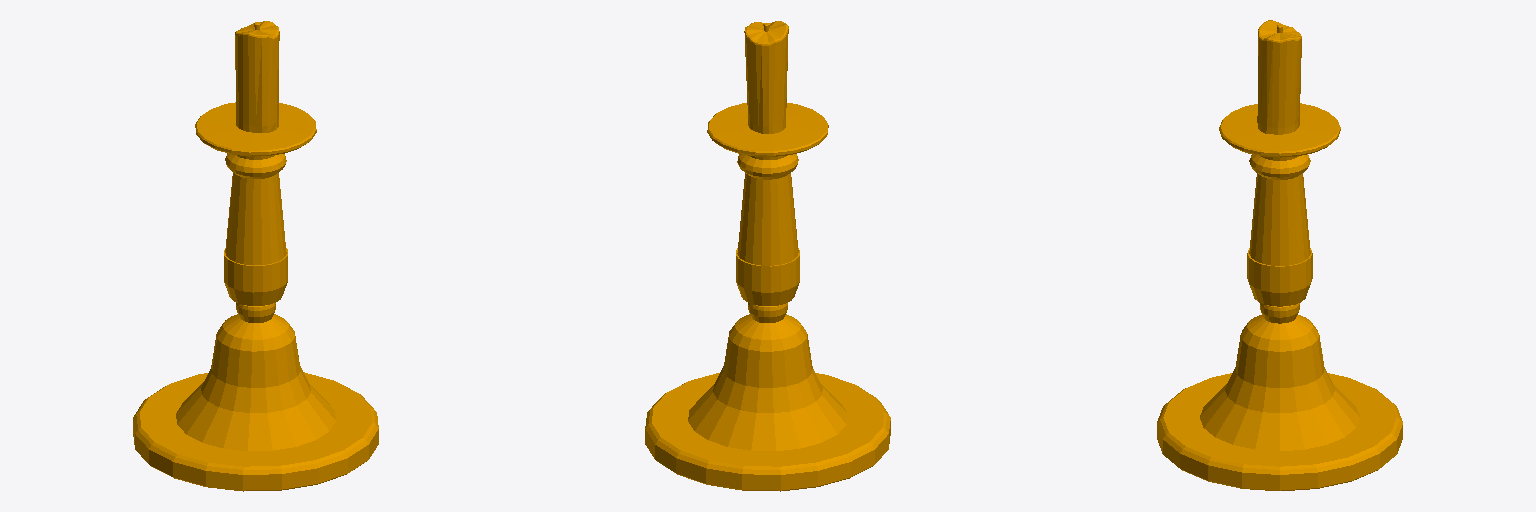
URDF robot description (mesh_object):
<?xml version="1.0" ?>
<robot name="mesh_object">
  <link name="base">
    <visual>
      <geometry>
        <mesh filename="candle_3.obj" scale="1 1 1"/>
      </geometry>
    </visual>
    <collision>
      <geometry>
        <mesh filename="candle_3.obj" scale="1 1 1"/>
      </geometry>
    </collision>
    <inertial>
      <origin xyz="0.000510 0.000013 0.099766" rpy="0 0 0"/>
      <mass value="0.5"/>
      <inertia ixx="0.01" iyy="0.01" izz="0.01" ixy="0" ixz="0" iyz="0"/>
    </inertial>
  </link>
</robot>

--- Render facts (derived) ---
Views: 3 orthographic renders of the robot side by side, from view 1: azimuth 30°, elevation 25°; view 2: azimuth 150°, elevation 25°; view 3: azimuth 270°, elevation 25°.
Robot: mesh_object — 1 links, 0 joints (none); root link base; default pose: all joints at 0.
Links seen in each view (by area): view 1: base; view 2: base; view 3: base.
Link boxes in pixels (<box>): base: <box>133,21,378,491</box>; base: <box>645,21,890,491</box>; base: <box>1157,20,1402,490</box>.
Bounding box of the posed robot: 0.1073 × 0.1073 × 0.1995 m (x, y, z).
Meshes: 1 distinct files referenced, 1 mesh visuals loaded (1 OBJ).
